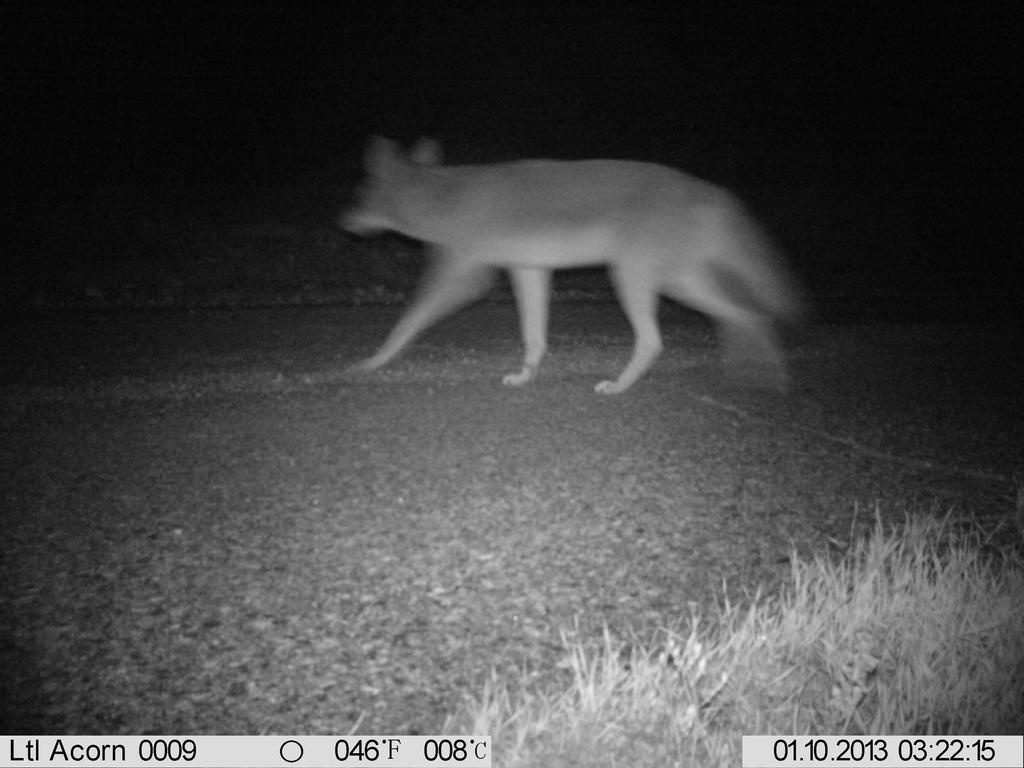coyote: (335, 131, 812, 407)
